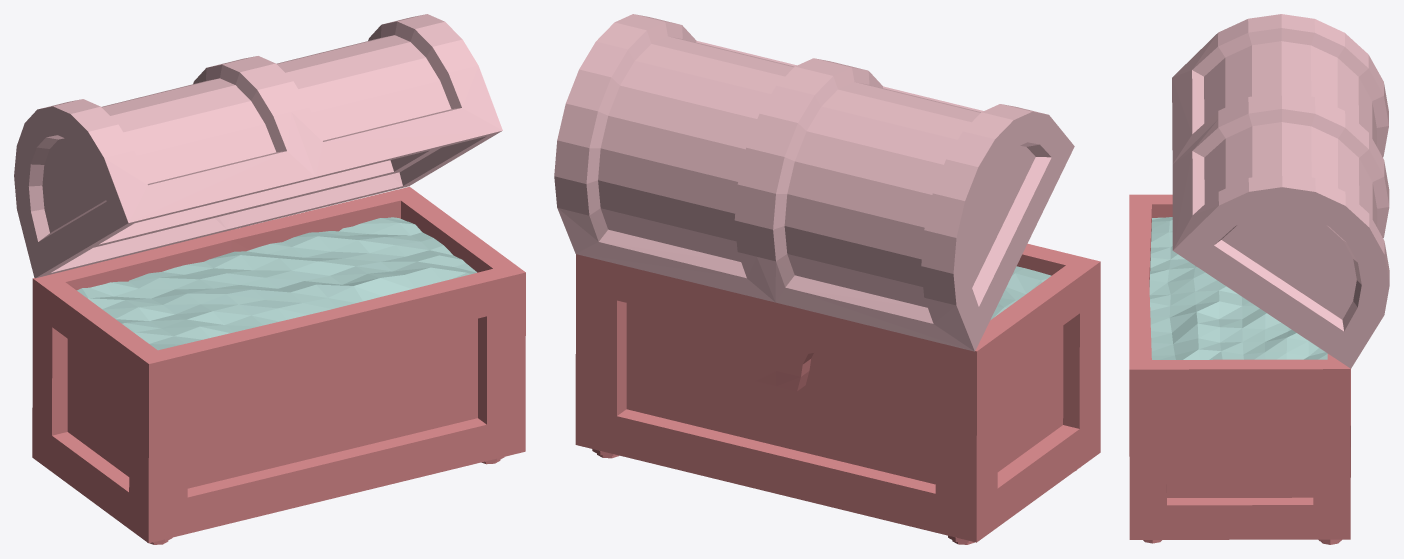
The model's file is 106591_assembly.glb.
3 renders of one model, left to right at view 1: azimuth 30°, elevation 25°; view 2: azimuth 150°, elevation 25°; view 3: azimuth 270°, elevation 25°, orthographic. The views are drawn at different scales.
Visible parts, largest first — view 1: part_00, part_01, part_02; view 2: part_01, part_00, part_02; view 3: part_01, part_00, part_02.
Part boxes in pixels (x1,y1,x2,y2): part_00: (32,186,525,544); part_01: (14,14,502,278); part_02: (77,217,476,350); part_01: (554,14,1074,351); part_00: (575,243,1100,544); part_02: (990,266,1051,319); part_01: (1172,14,1389,368); part_00: (1129,194,1350,544); part_02: (1149,217,1327,359).
Bounding box in the file's own units: 1 × 0.9686 × 0.6302.
